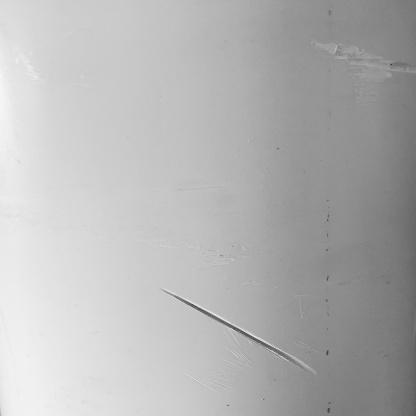sunshang: (161, 282, 330, 385), (310, 32, 409, 87)
